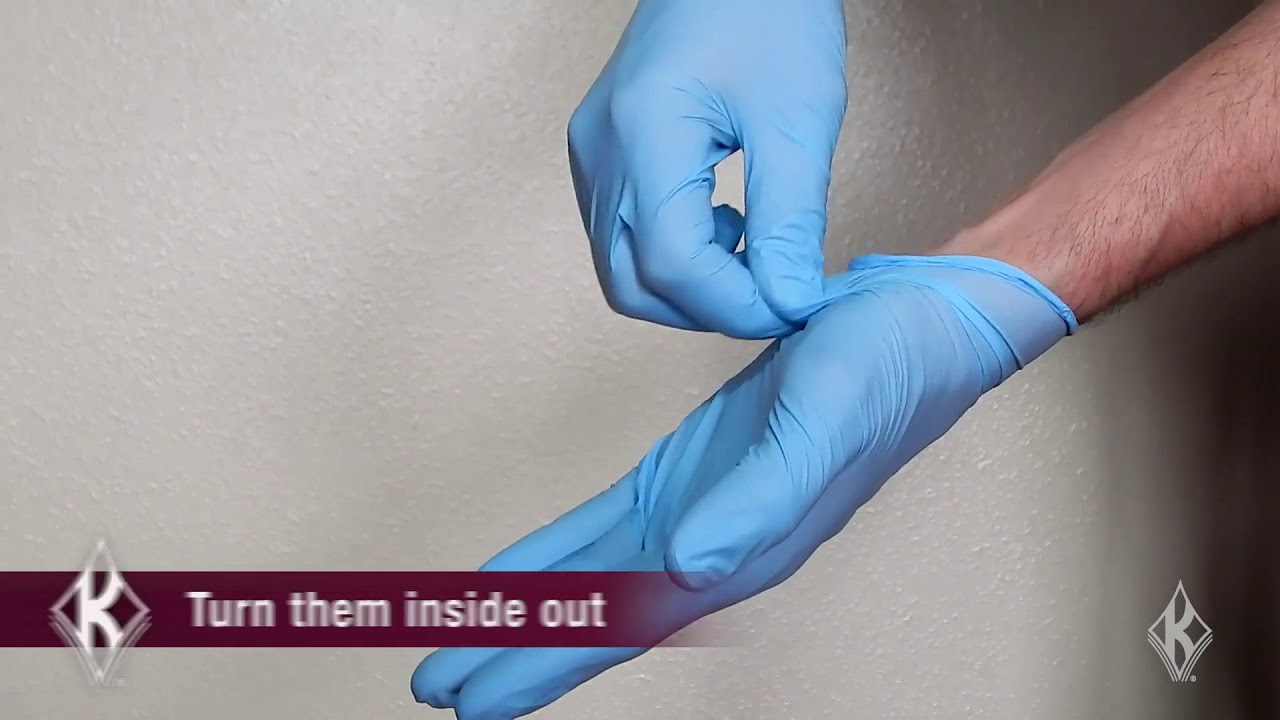Gloves: (438, 265, 1063, 720), (558, 1, 853, 346)
